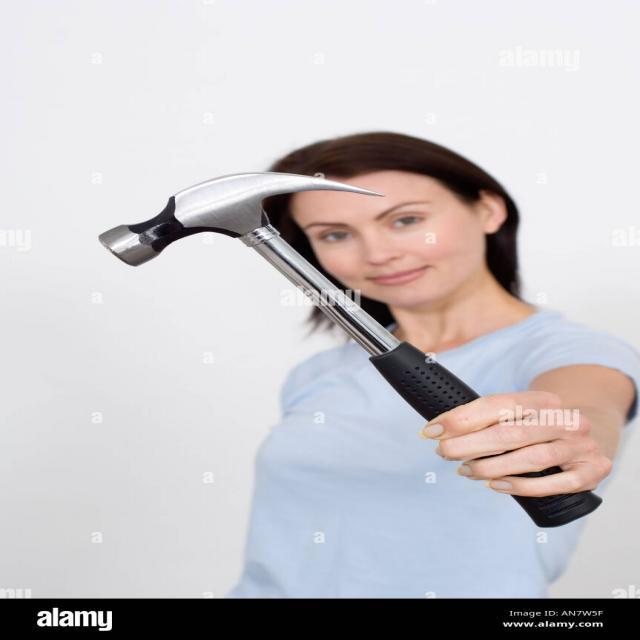hammer: (97, 169, 604, 526)
